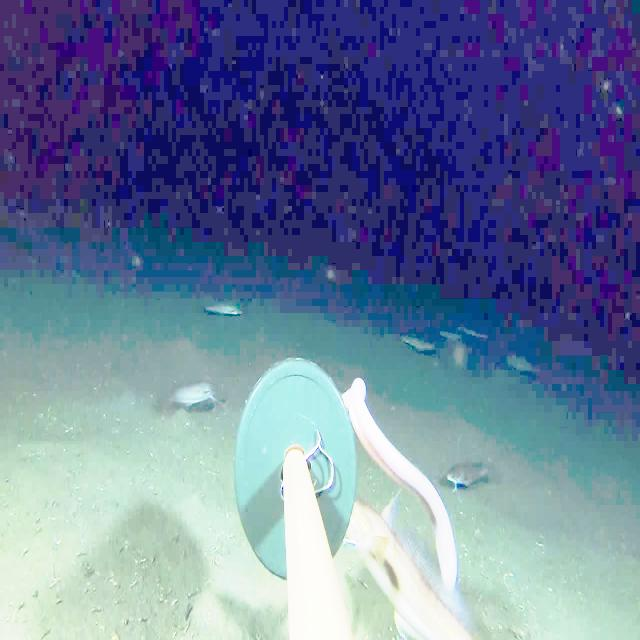eel: (331, 355, 486, 611)
fish: (330, 473, 504, 639), (168, 372, 229, 418), (439, 457, 497, 500), (198, 287, 255, 324), (501, 341, 544, 384), (394, 327, 442, 358), (458, 306, 490, 352), (432, 316, 467, 351)
pole: (236, 391, 356, 583)
